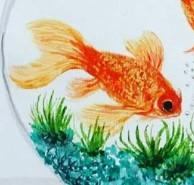Gold Fish: (11, 15, 180, 131)
